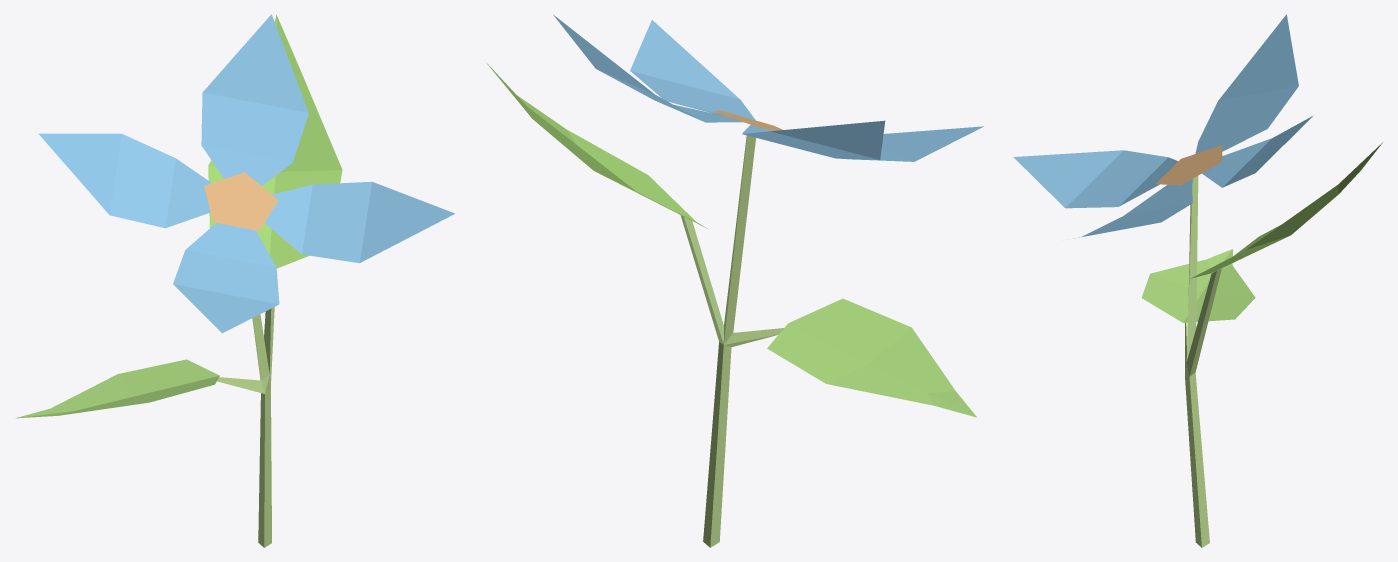
File: Flower_a_OneS_10.fbx
3 views of the same model, side by side, from view 1: azimuth 30°, elevation 25°; view 2: azimuth 150°, elevation 25°; view 3: azimuth 270°, elevation 25° (orthographic). The views are drawn at different scales.
Visible parts, largest first — view 1: Flower_a_OneS_10; view 2: Flower_a_OneS_10; view 3: Flower_a_OneS_10.
Part boxes in pixels (box(x1,y1,x2,y2)): Flower_a_OneS_10: box(15, 14, 454, 547); Flower_a_OneS_10: box(486, 14, 983, 547); Flower_a_OneS_10: box(1013, 14, 1382, 547).
Size of the model in its own units: 0.5634 by 0.7088 by 0.4953.
